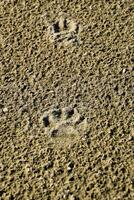chien: (40, 104, 87, 145)
